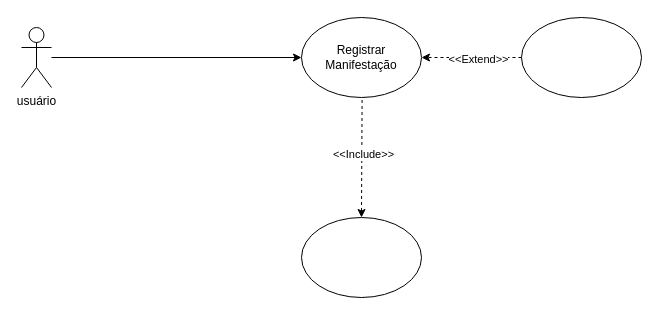
This 659x315 diagram has some shape labels left out. The centre of each missing label's shape, as x and y in pixels:
"Anexar arquivos à manifestação" belongs at point 361,257.
"Dados ausentes" belongs at point 581,57.
